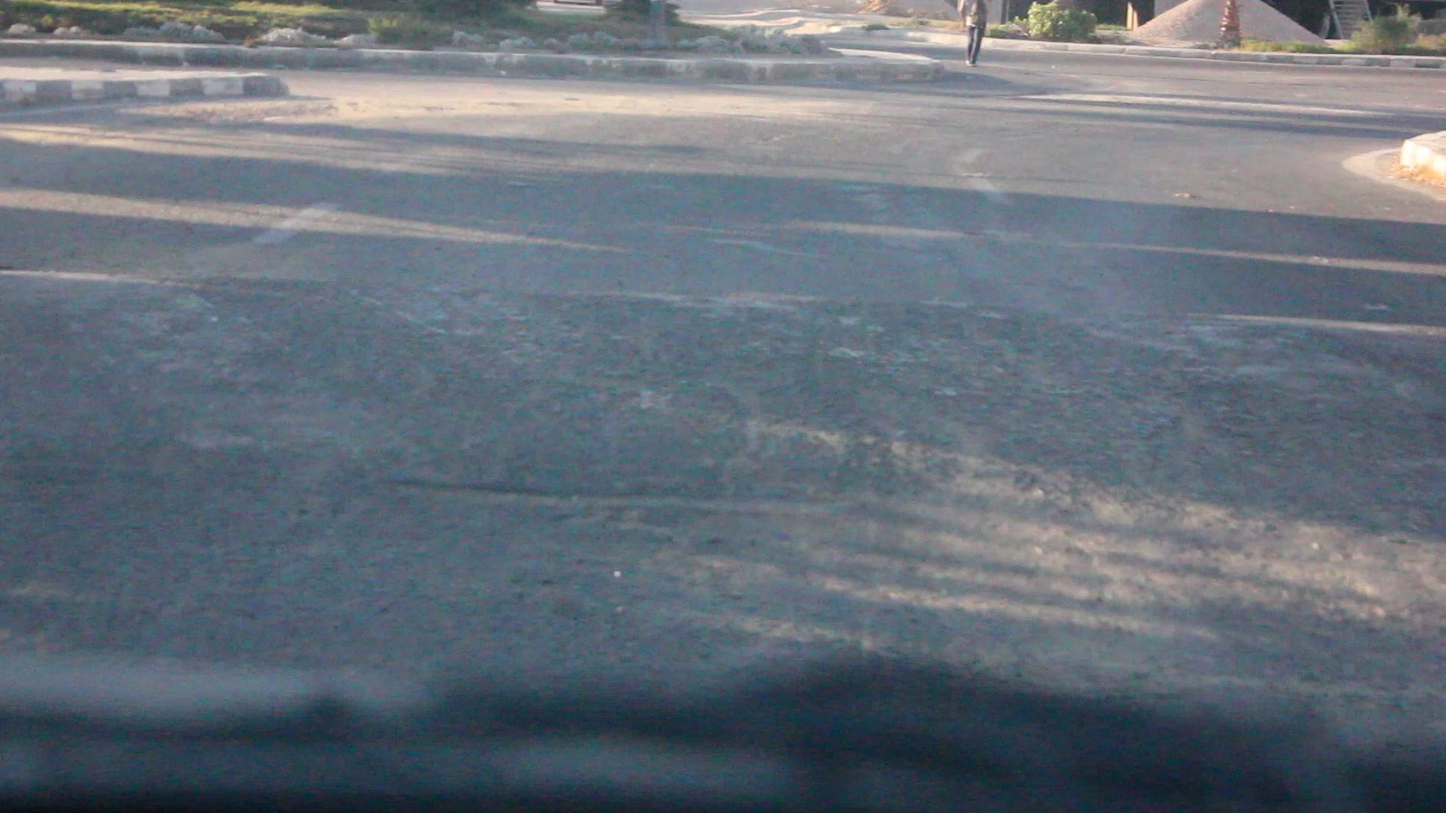Bump: (0, 267, 1446, 531)
